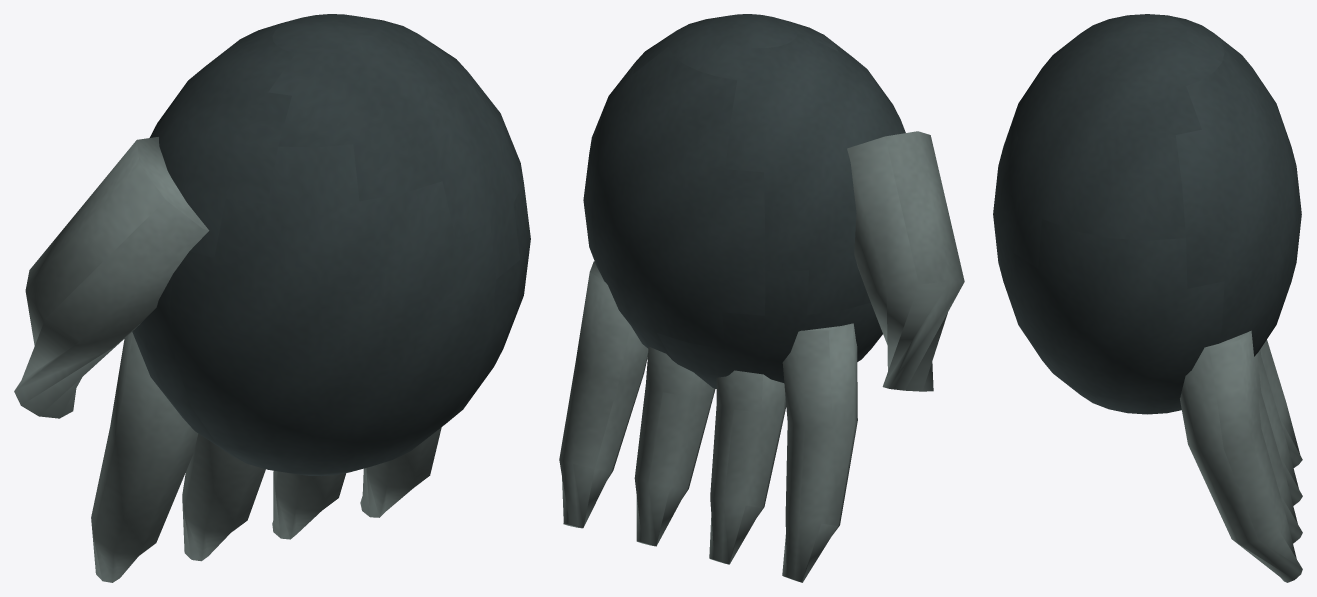
Rendered from hand_r_lod0.glb.
3 renders of one model, left to right at view 1: azimuth 30°, elevation 25°; view 2: azimuth 150°, elevation 25°; view 3: azimuth 270°, elevation 25°, orthographic. The views are drawn at different scales.
Parts seen in each view (by area): view 1: dormin_hand_r_LOD0; view 2: dormin_hand_r_LOD0; view 3: dormin_hand_r_LOD0.
Boxes of the visible parts, x1,y1,x2,y2 form: dormin_hand_r_LOD0: (14,14,530,582); dormin_hand_r_LOD0: (559,14,964,582); dormin_hand_r_LOD0: (993,14,1302,582).
Bounding box in the file's own units: 1.57 × 1.92 × 1.08.
2 materials, 2 textured.
